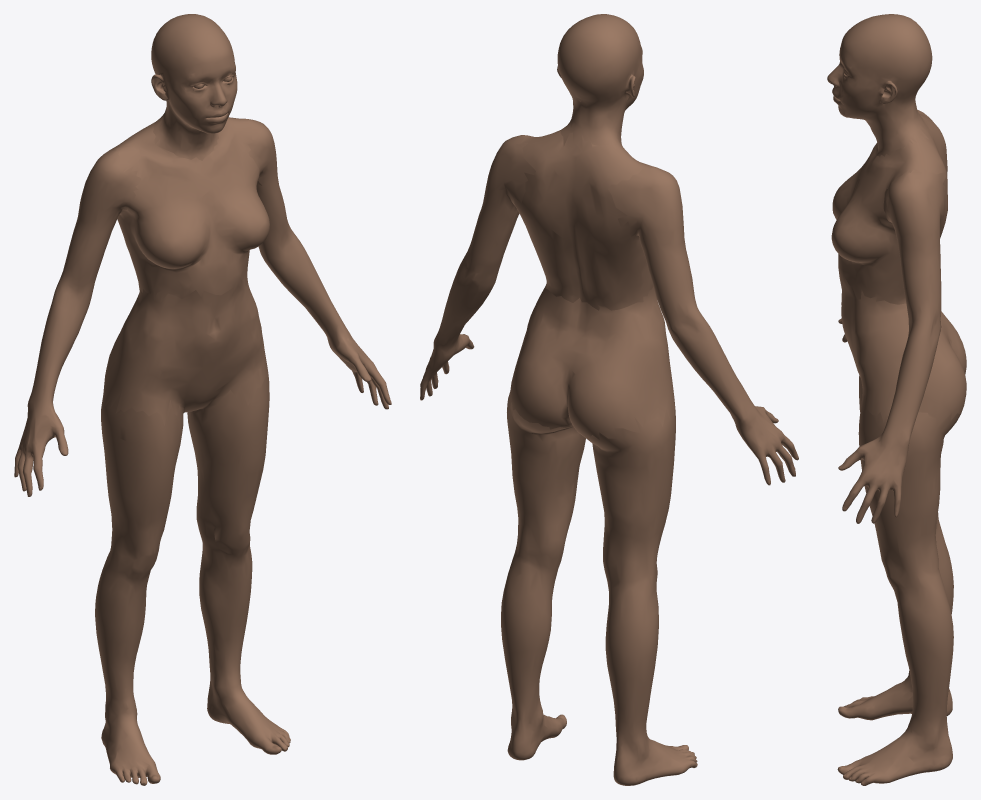
Rendered from cuerpo_mujer.glb.
3 views of the same model, side by side, from view 1: azimuth 30°, elevation 25°; view 2: azimuth 150°, elevation 25°; view 3: azimuth 270°, elevation 25° (orthographic).
Visible parts, largest first — view 1: Piernas, Torax, Abdomen, BrazoDerecho, Cabeza, BrazoIzquierdo; view 2: Piernas, Abdomen, Torax, BrazoDerecho, Cabeza, BrazoIzquierdo; view 3: Piernas, BrazoIzquierdo, Cabeza, Torax, Abdomen.
Part boxes in pixels (x1=…): Piernas: x1=95, y1=372, x2=290, y2=785; Torax: x1=114, y1=117, x2=269, y2=302; Abdomen: x1=103, y1=277, x2=268, y2=425; BrazoDerecho: x1=14, y1=146, x2=140, y2=496; Cabeza: x1=151, y1=14, x2=237, y2=160; BrazoIzquierdo: x1=235, y1=118, x2=391, y2=409; Piernas: x1=501, y1=392, x2=697, y2=785; Abdomen: x1=509, y1=284, x2=675, y2=440; Torax: x1=514, y1=97, x2=654, y2=310; BrazoDerecho: x1=608, y1=166, x2=798, y2=485; Cabeza: x1=556, y1=14, x2=643, y2=152; BrazoIzquierdo: x1=420, y1=135, x2=535, y2=400; Piernas: x1=837, y1=375, x2=960, y2=785; BrazoIzquierdo: x1=838, y1=166, x2=945, y2=523; Cabeza: x1=827, y1=14, x2=932, y2=156; Torax: x1=831, y1=113, x2=947, y2=304; Abdomen: x1=839, y1=277, x2=966, y2=427.
Size of the model in its own units: 0.8991 by 1.75 by 0.3038.
